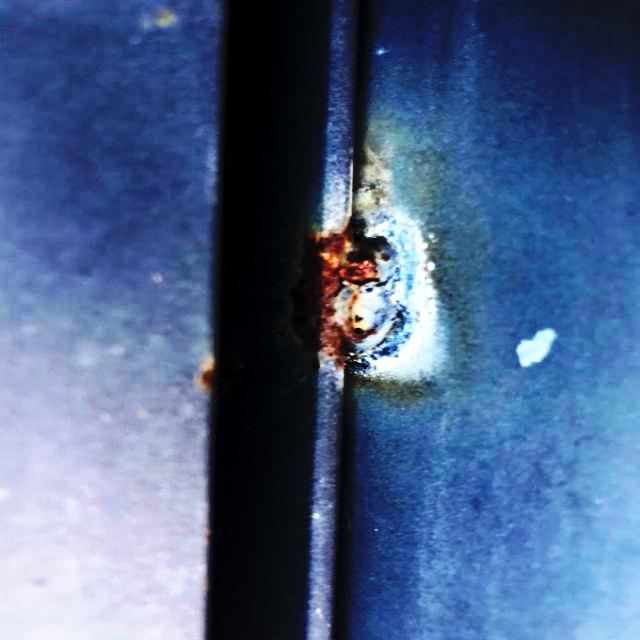Corrosion: (285, 215, 390, 384), (198, 358, 218, 397)
